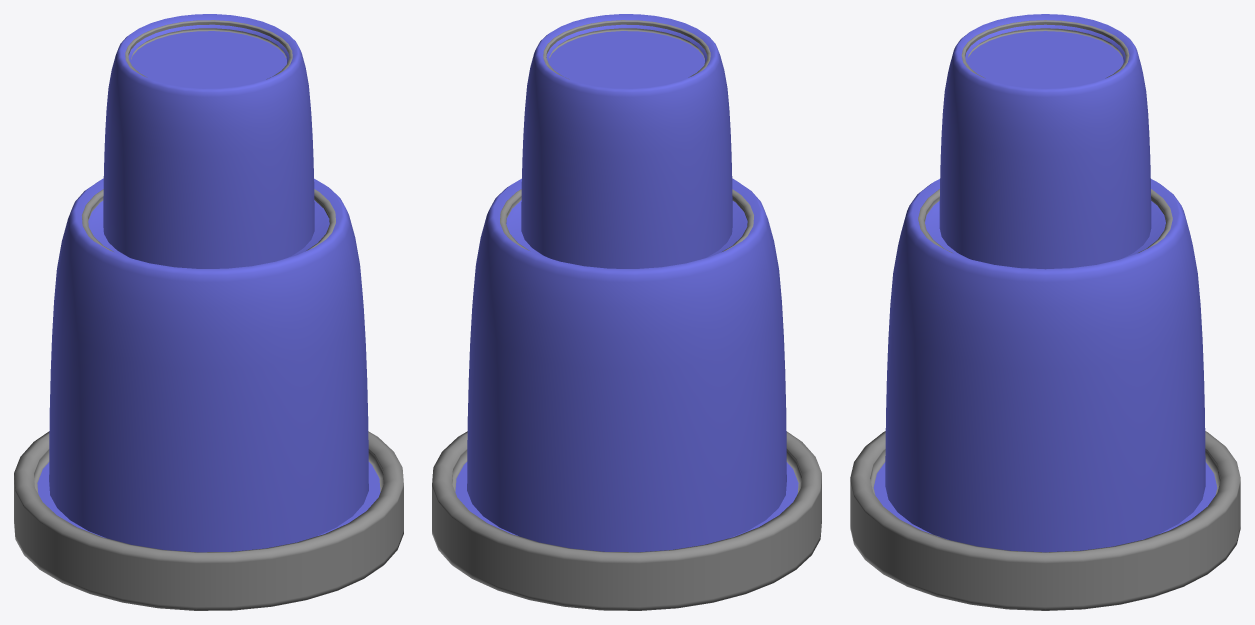
Rendered from fountaintower.fbx.
The picture shows the model from 3 angles, left to right: view 1: azimuth 30°, elevation 25°; view 2: azimuth 150°, elevation 25°; view 3: azimuth 270°, elevation 25°; orthographic projection.
Parts seen in each view (by area): view 1: fountain; view 2: fountain; view 3: fountain.
Boxes of the visible parts, <box> form: fountain: <box>14,14,403,610</box>; fountain: <box>432,14,821,610</box>; fountain: <box>850,14,1240,610</box>.
Bounding box in the file's own units: 886 × 1195 × 886.
